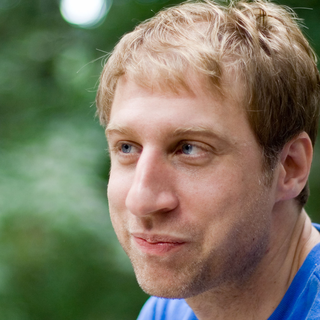eye: (165, 138, 216, 162), (110, 138, 143, 159)
